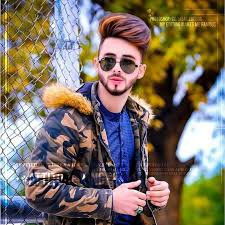noMask: (91, 13, 156, 100)
